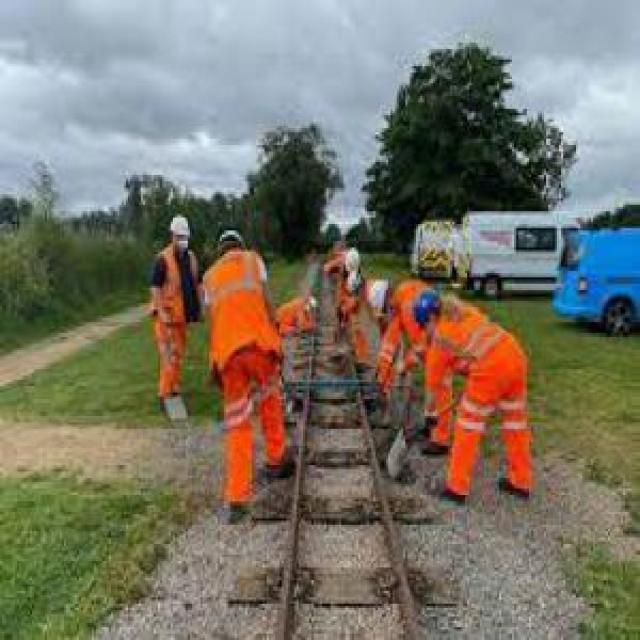rail: (202, 252, 478, 640)
